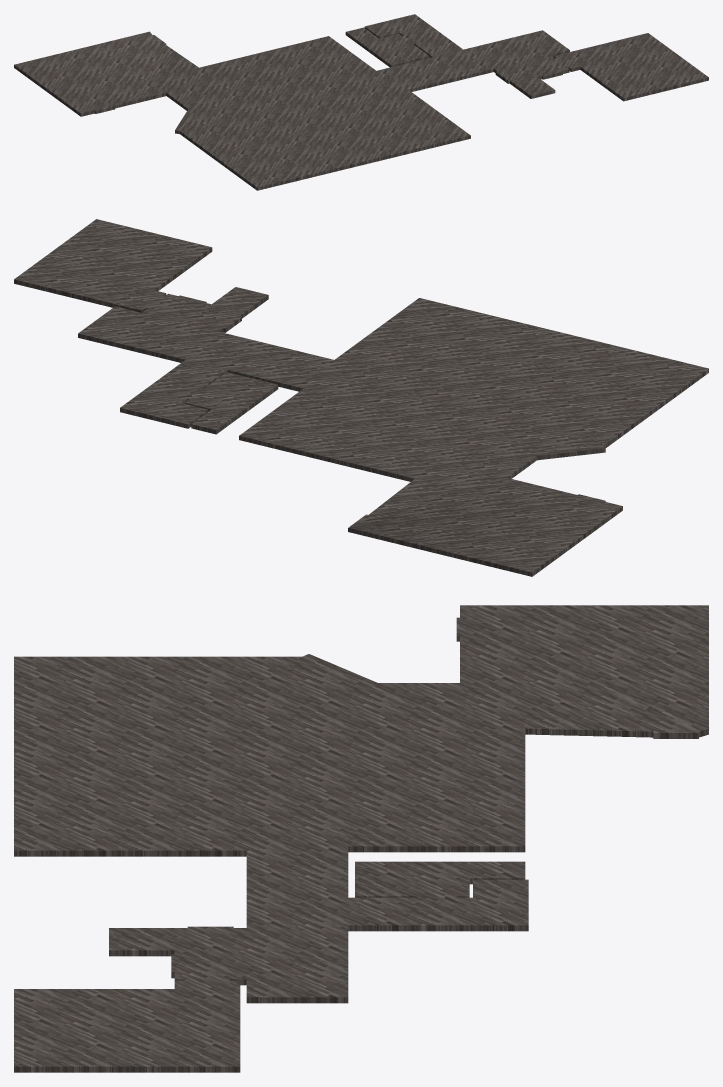
File: 1989_kitchen_Floor_Whitefill.gltf
3 views of the same model, one above another, from view 1: azimuth 30°, elevation 25°; view 2: azimuth 150°, elevation 25°; view 3: azimuth 270°, elevation 25° (orthographic). The views are drawn at different scales.
Parts seen in each view (by area): view 1: Line23799; view 2: Line23799; view 3: Line23799.
Part boxes in pixels (x1,y1,x2,y2): Line23799: (14, 14, 708, 190); Line23799: (14, 219, 708, 576); Line23799: (14, 605, 708, 1072).
Bounding box in the file's own units: 33.3 × 0.3 × 21.2.
Materials: 1 (1 with a texture image).
